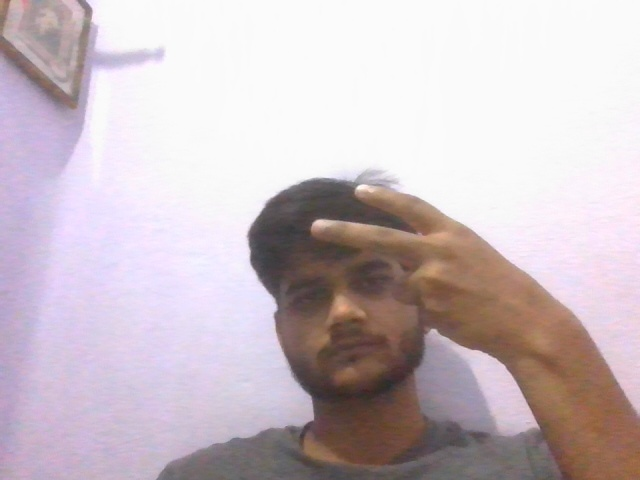yes: (303, 178, 543, 382)
